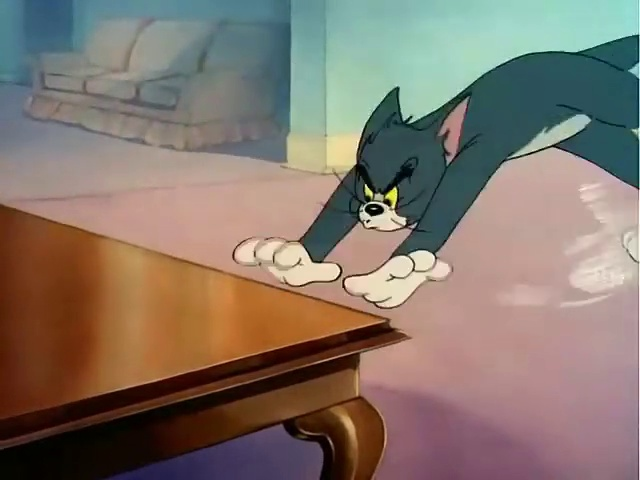tom: (227, 32, 633, 309)
